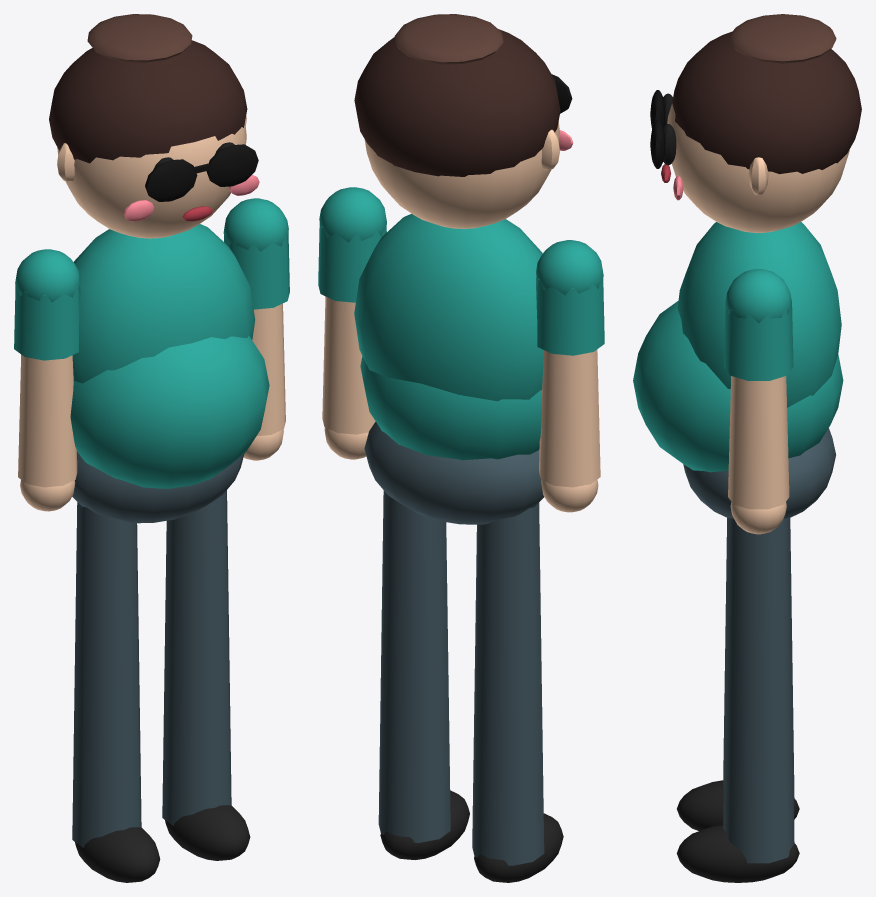
Rendered from journey_burry.glb.
The picture shows the model from 3 angles, left to right: view 1: azimuth 30°, elevation 25°; view 2: azimuth 150°, elevation 25°; view 3: azimuth 270°, elevation 25°; orthographic projection. The views are drawn at different scales.
Parts seen in each view (by area): view 1: Body.001, Leg_R, Leg_L, Arm_R, Arm_L; view 2: Body.001, Leg_R, Leg_L, Arm_R, Arm_L; view 3: Body.001, Leg_L, Arm_L, Leg_R.
Boxes of the visible parts, x1,y1,x2,y2 form: Body.001: (49, 14, 269, 523); Leg_R: (72, 502, 160, 882); Leg_L: (162, 490, 250, 860); Arm_R: (14, 249, 80, 511); Arm_L: (223, 198, 289, 460); Body.001: (354, 14, 573, 524); Leg_R: (472, 502, 563, 882); Leg_L: (378, 490, 469, 859); Arm_R: (536, 240, 604, 512); Arm_L: (318, 187, 386, 459); Body.001: (633, 14, 861, 518); Leg_L: (676, 517, 799, 882); Arm_L: (724, 269, 793, 534); Leg_R: (677, 518, 799, 830).
Size of the model in its own units: 0.6052 by 1.78 by 0.4466.
